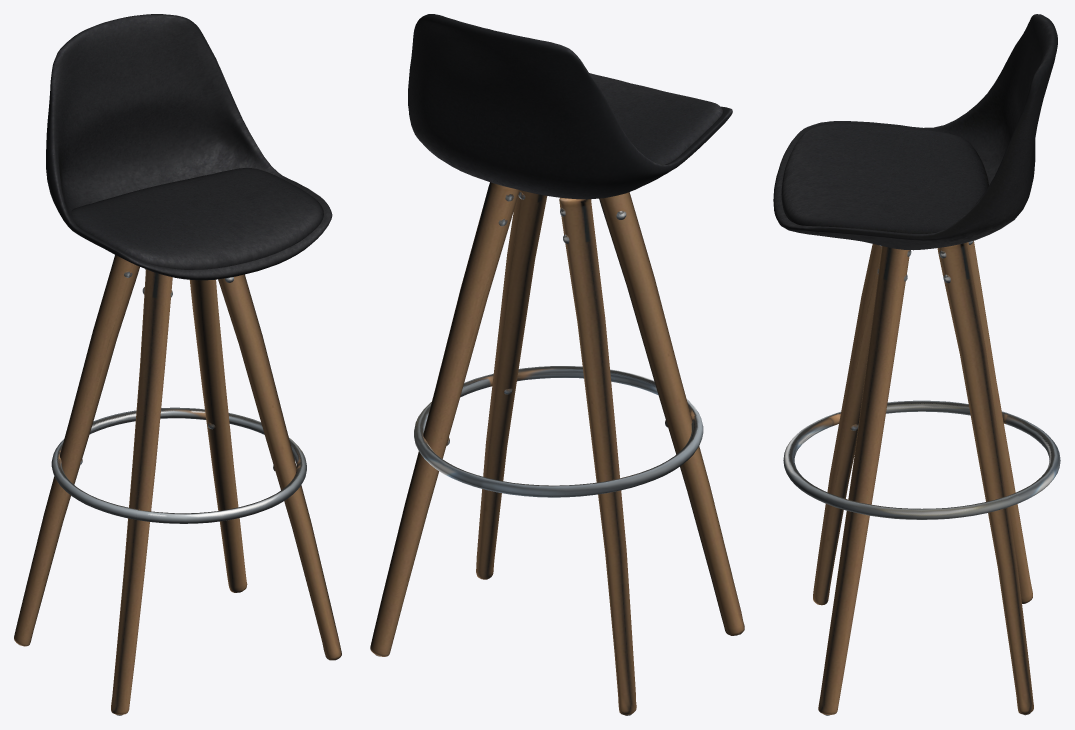
The model's file is orso_bar_white_oak.glb.
3 renders of one model, left to right at view 1: azimuth 30°, elevation 25°; view 2: azimuth 150°, elevation 25°; view 3: azimuth 270°, elevation 25°, orthographic. The views are drawn at different scales.
Visible parts, largest first — view 1: orso_bar-black; view 2: orso_bar-black; view 3: orso_bar-black.
Part boxes in pixels (box(x1,y1,x2,y2)): orso_bar-black: box(14, 14, 341, 715); orso_bar-black: box(370, 14, 744, 715); orso_bar-black: box(773, 14, 1060, 715).
Bounding box in the file's own units: 0.398 × 0.9653 × 0.4046.
Materials: 1 (1 with a texture image).
